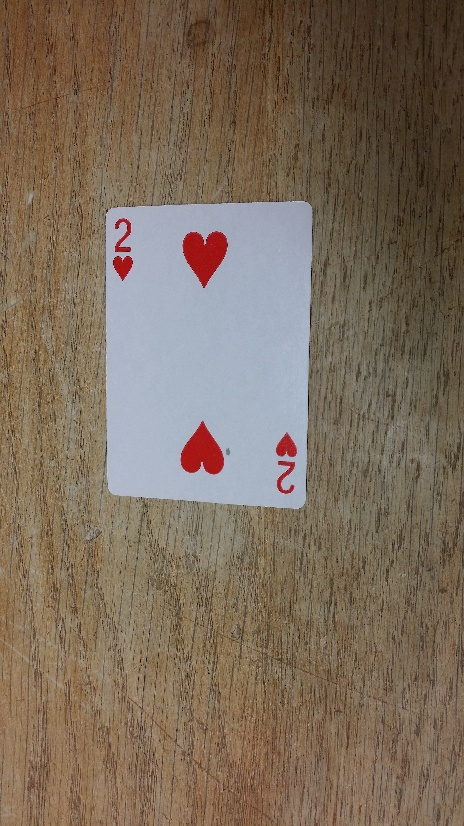H2: (107, 210, 140, 282), (268, 427, 300, 499)
